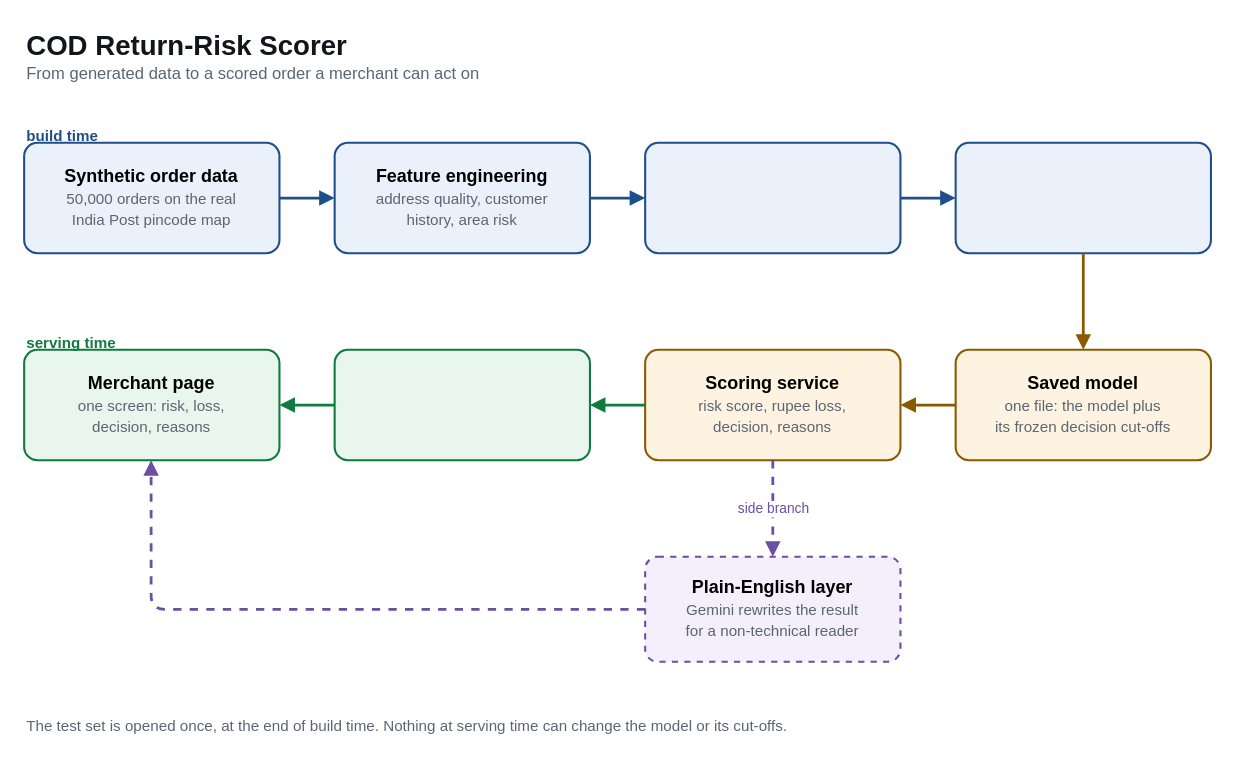
Some shapes in this 1236 by 759 pixel diagram are drawn without their labels. The shapes that lost their labels are listed below. From the top down, each one's centre as x and y in pixels, then its label:
At (772,197): "Model training 11 models compared, then tuned".
At (1082,197): "Final evaluation held-out test opened once, cost thresholds fixed".
At (461,404): "Web API scores one order on request".
